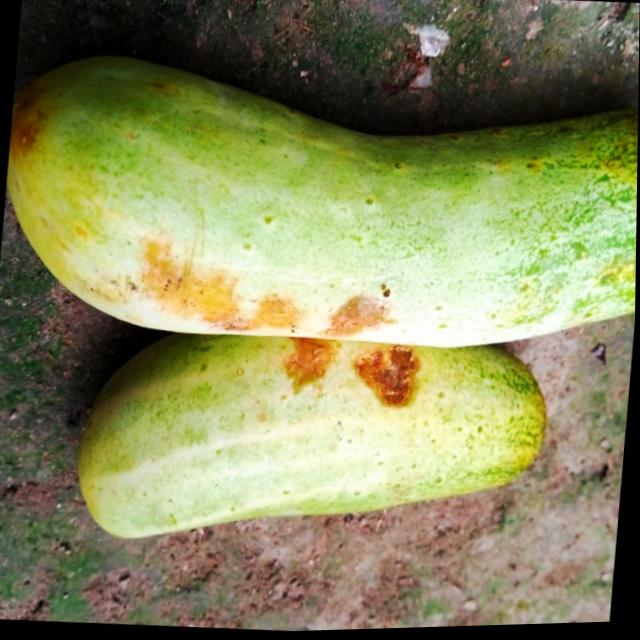Belly-Rot: (124, 226, 435, 430)
